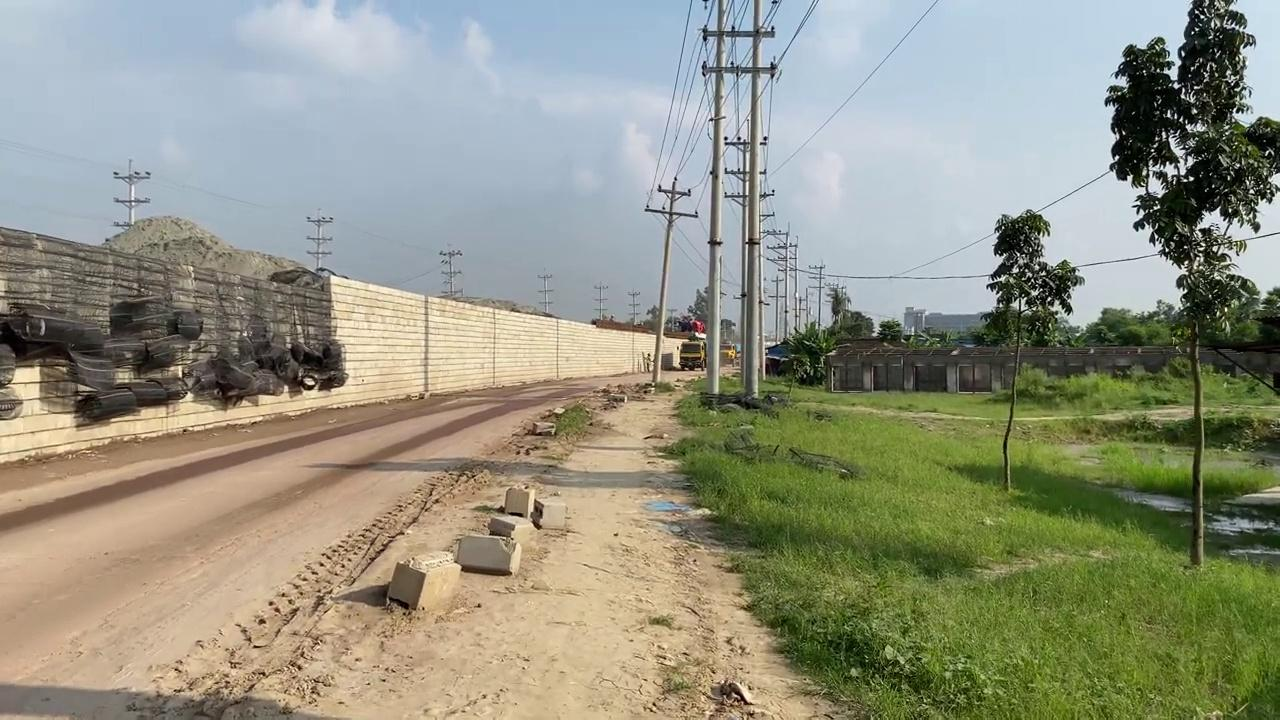Fence: (821, 341, 1278, 394)
Garbage: (0, 294, 345, 419)
Obstacle: (385, 549, 461, 612), (454, 533, 522, 575), (486, 513, 536, 544), (503, 485, 535, 517), (532, 498, 566, 528)
Pole: (740, 0, 769, 398), (702, 0, 729, 397)
Rickshaw: (293, 366, 847, 720)
Sidewalk: (1094, 479, 1278, 567)
Traffic-sign: (1102, 0, 1279, 568), (974, 208, 1084, 490)
Tree: (676, 336, 737, 370), (676, 339, 706, 370)
Upstairs: (0, 223, 693, 462)
